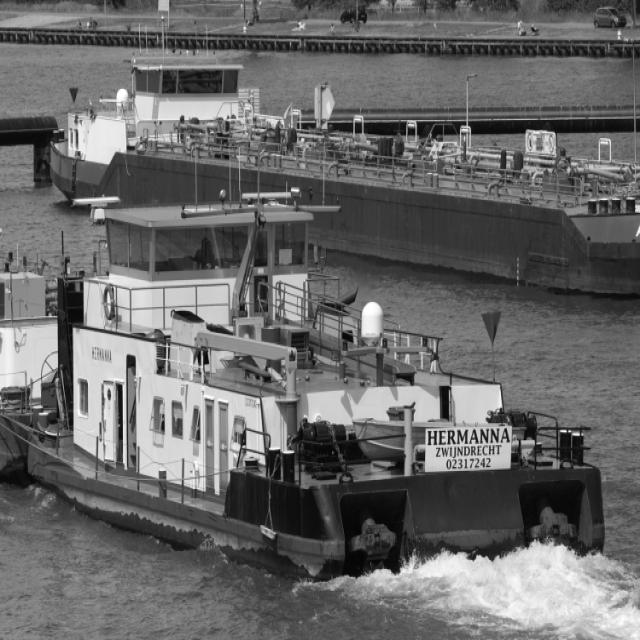tugboat: (25, 184, 610, 600)
